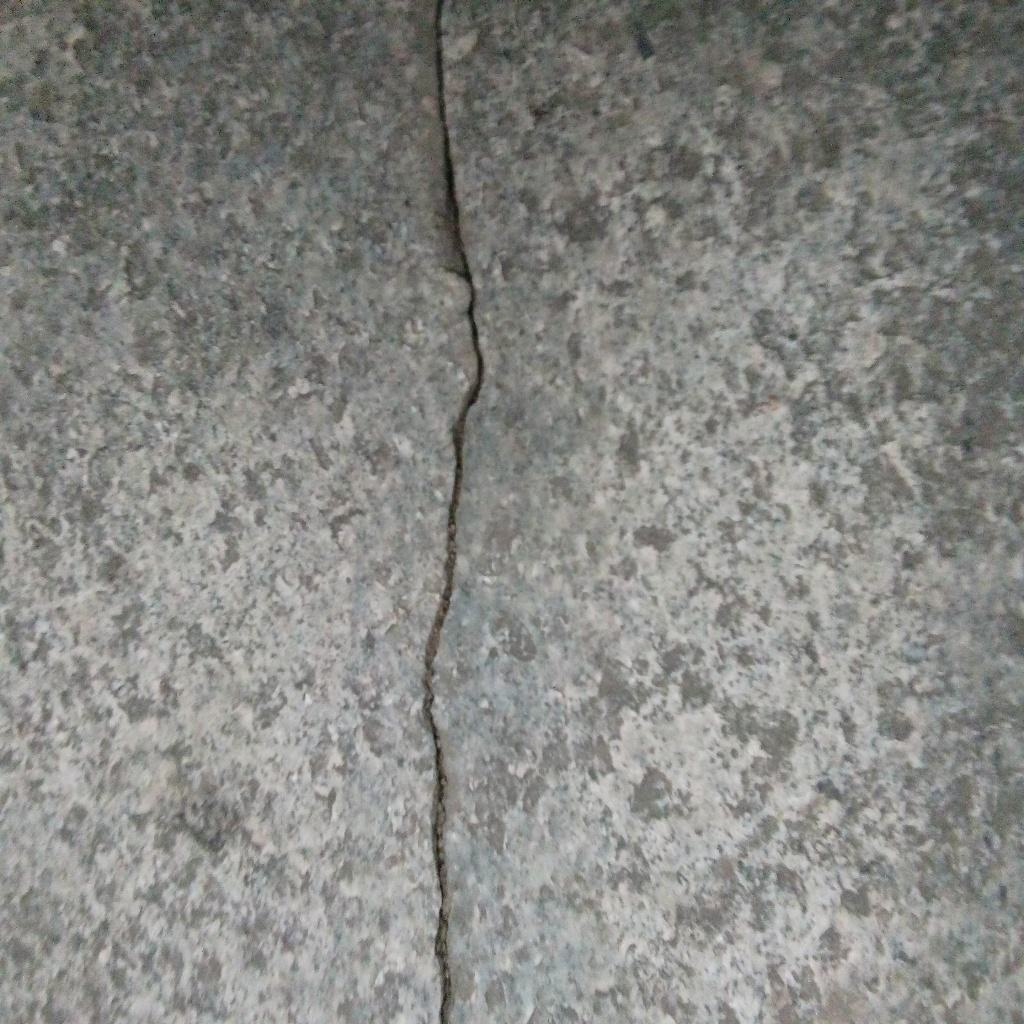Crack: (424, 1, 485, 1024)
